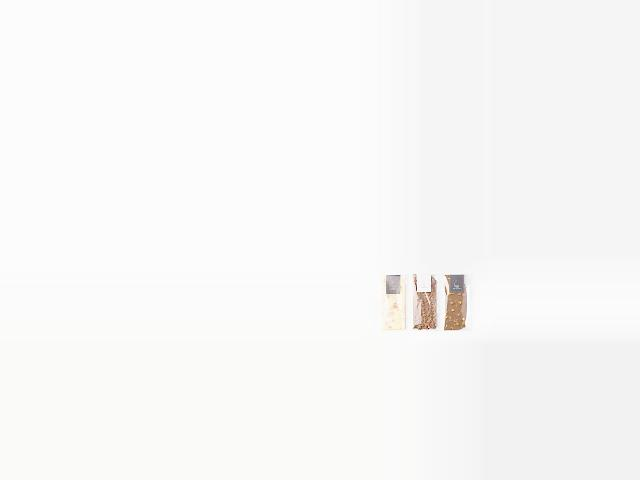chocolate: (441, 275, 476, 336)
